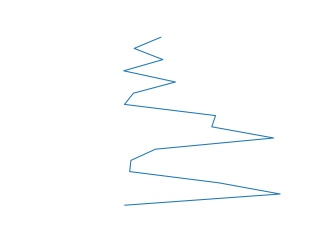majorRiverBedLagDeposit: (119, 37, 283, 209)
